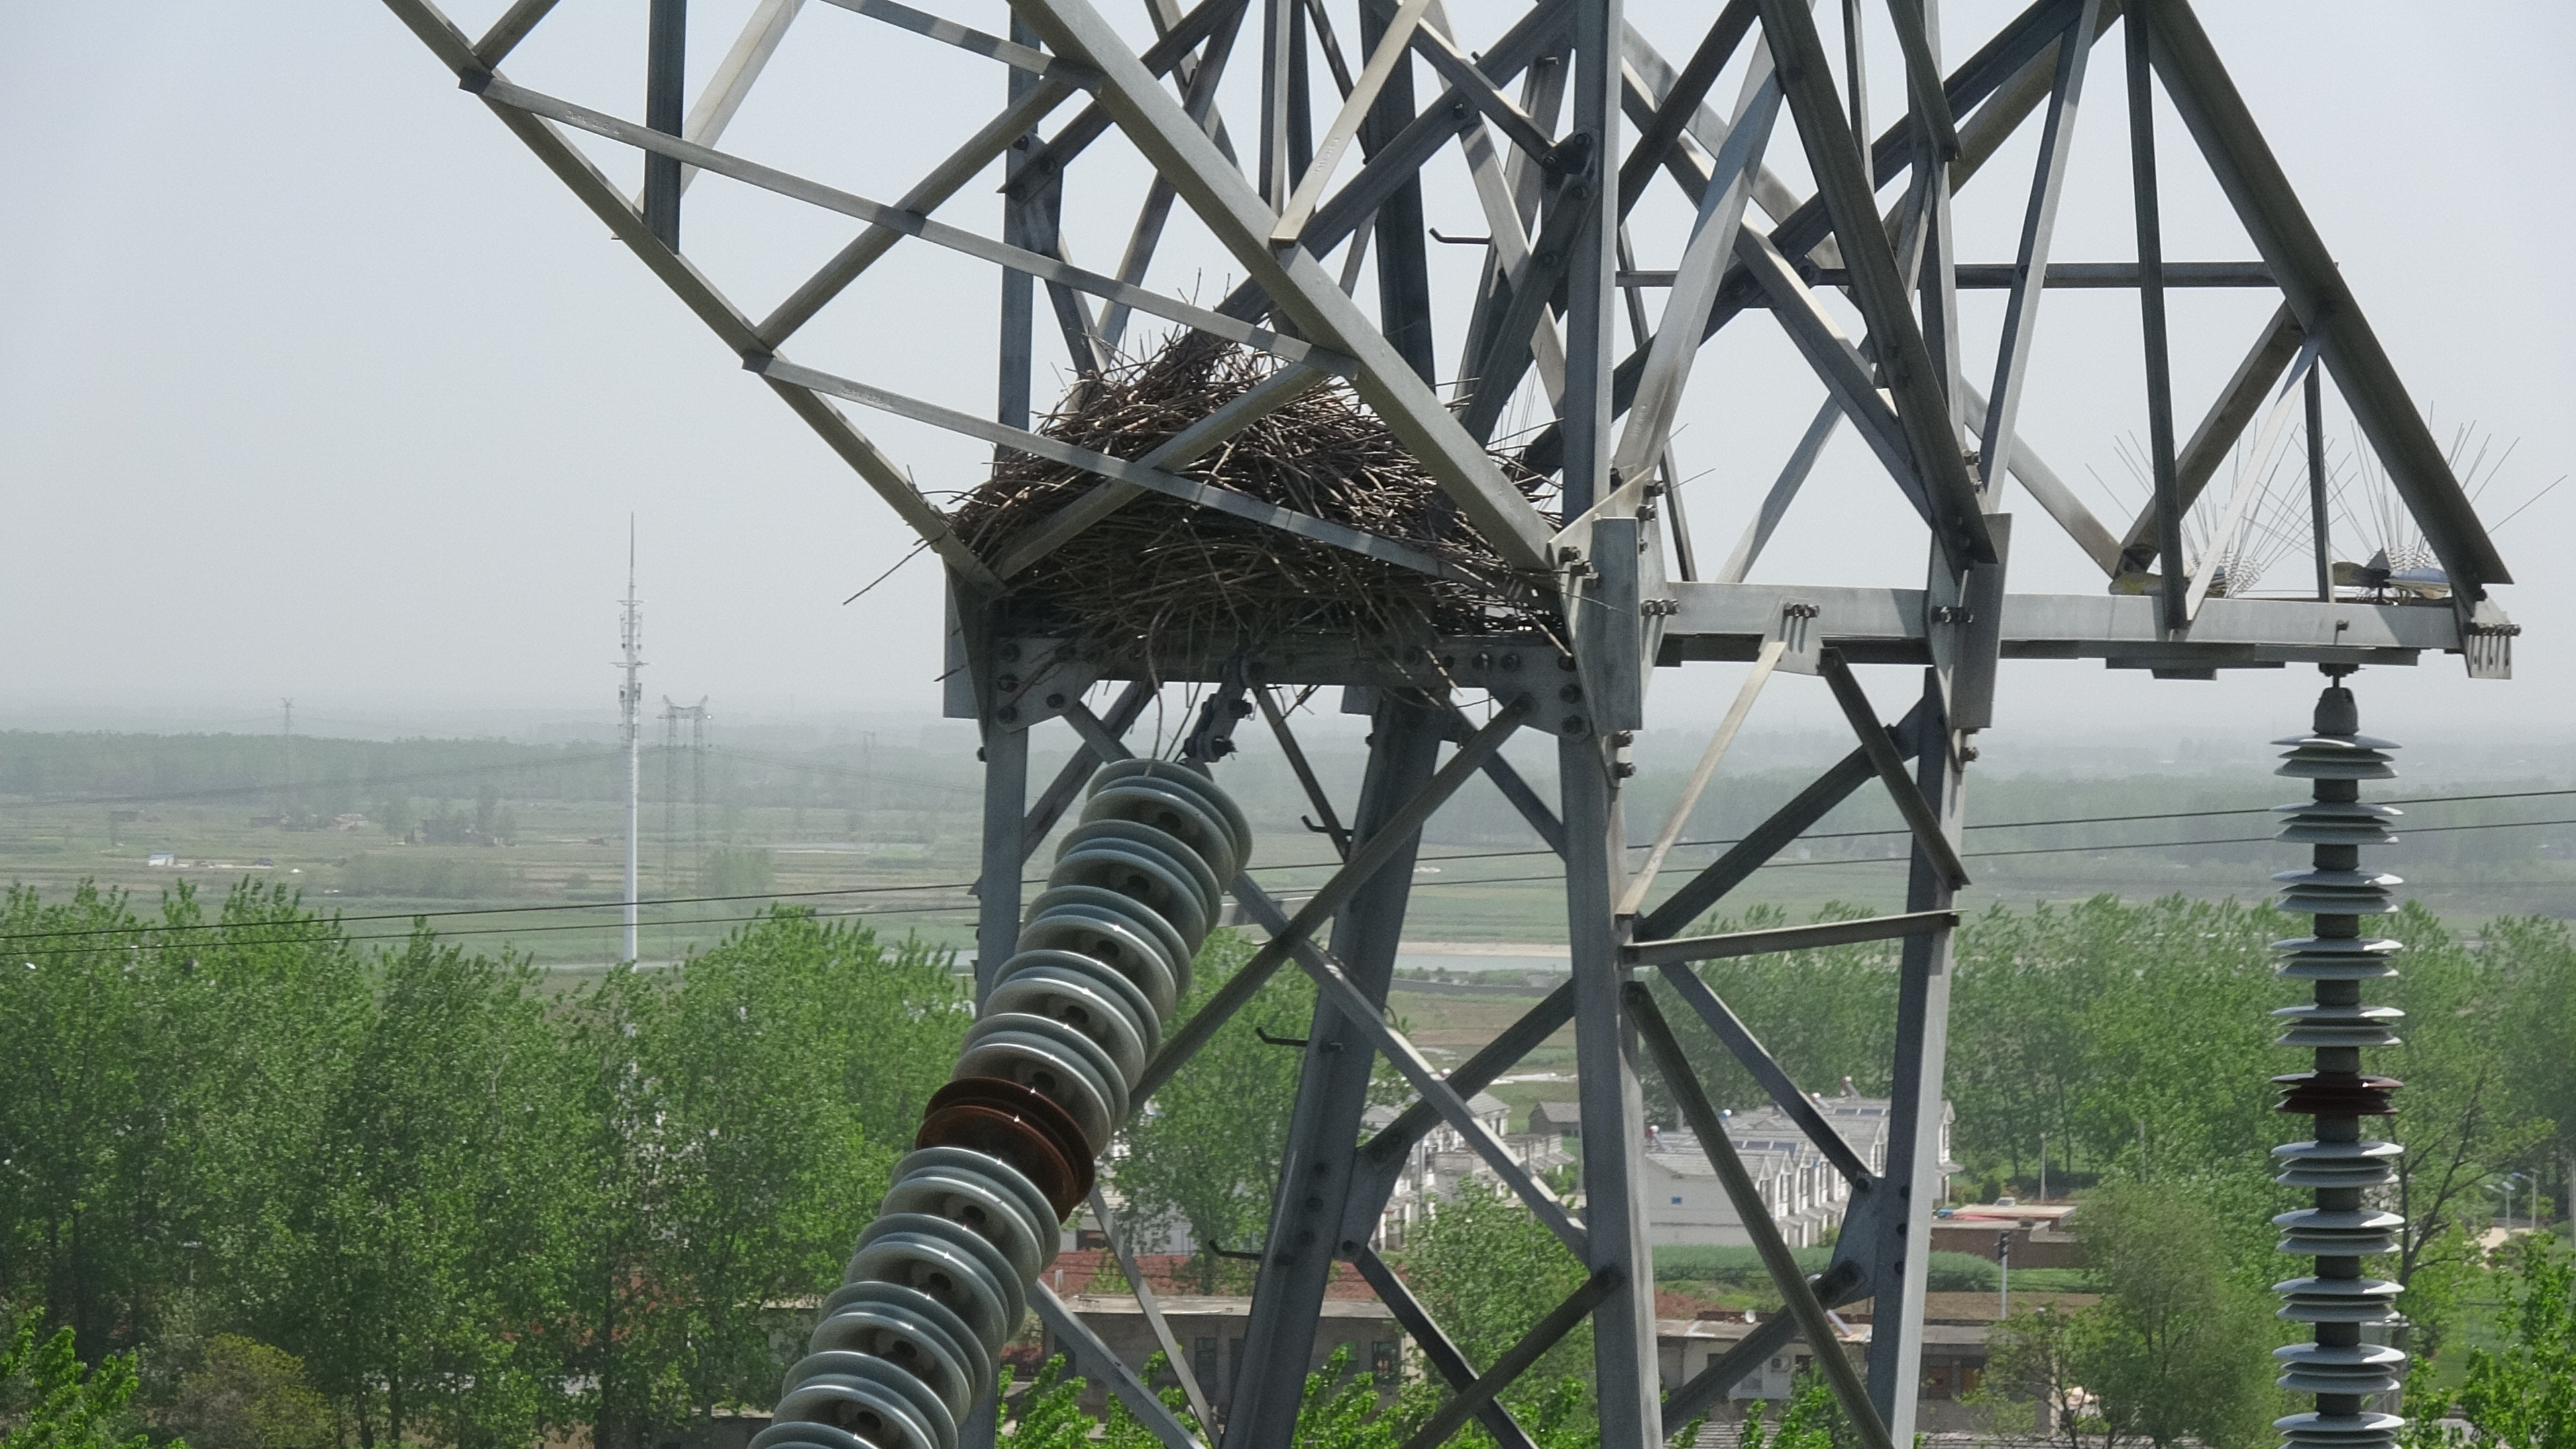niaowo: (924, 326, 1529, 658)
